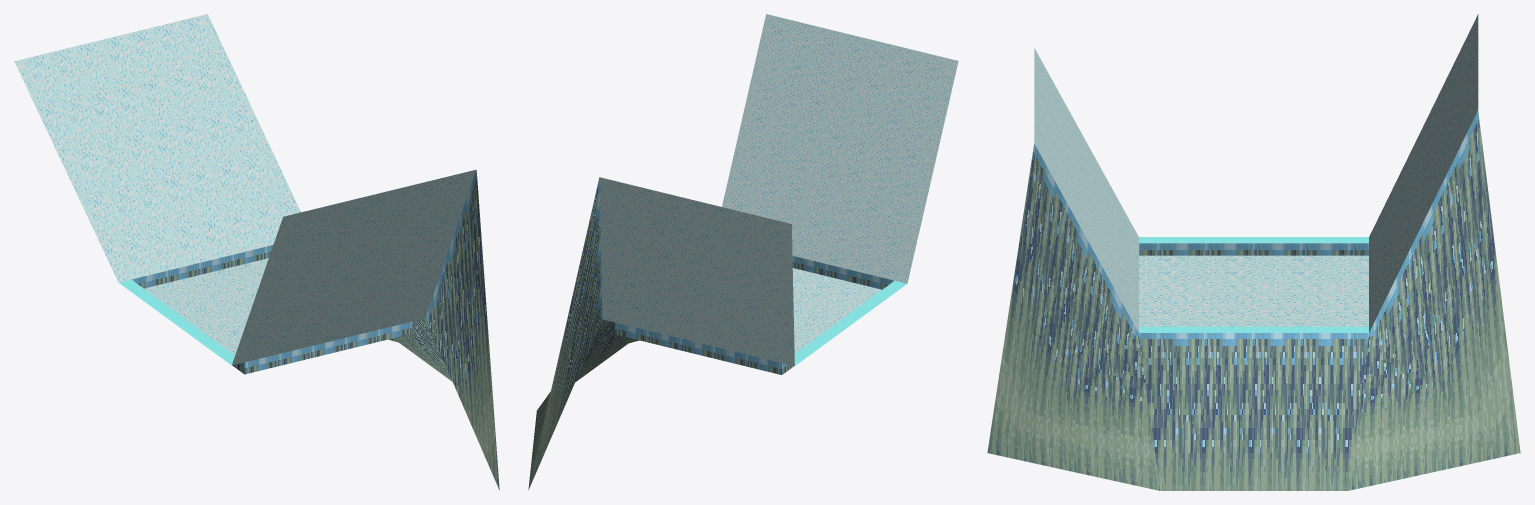
File: map.dae
3 renders of one model, left to right at view 1: azimuth 30°, elevation 25°; view 2: azimuth 150°, elevation 25°; view 3: azimuth 270°, elevation 25°, orthographic. The views are drawn at different scales.
Visible parts, largest first — view 1: Nemu_7EE07A6D_0_134, Nemu_68B75ED7_0_135, Nemu_7EE07A6D_0_133, Nemu_0_0_140; view 2: Nemu_7EE07A6D_0_134, Nemu_68B75ED7_0_135, Nemu_7EE07A6D_0_133, Nemu_0_0_140; view 3: Nemu_68B75ED7_0_135, Nemu_7EE07A6D_0_134, Nemu_7EE07A6D_0_133, Nemu_0_0_140.
Part boxes in pixels (bbox=[...]): Nemu_7EE07A6D_0_134: bbox=[14, 14, 476, 365]; Nemu_68B75ED7_0_135: bbox=[131, 170, 499, 490]; Nemu_7EE07A6D_0_133: bbox=[144, 258, 268, 355]; Nemu_0_0_140: bbox=[119, 279, 234, 365]; Nemu_7EE07A6D_0_134: bbox=[599, 14, 958, 365]; Nemu_68B75ED7_0_135: bbox=[528, 178, 893, 490]; Nemu_7EE07A6D_0_133: bbox=[792, 268, 881, 353]; Nemu_0_0_140: bbox=[794, 280, 906, 365]; Nemu_68B75ED7_0_135: bbox=[987, 110, 1520, 490]; Nemu_7EE07A6D_0_134: bbox=[1034, 14, 1478, 332]; Nemu_7EE07A6D_0_133: bbox=[1139, 255, 1368, 326]; Nemu_0_0_140: bbox=[1139, 237, 1368, 332].
Bounding box in the file's own units: 2484 × 2316 × 3520.
3 materials, 2 textured.
